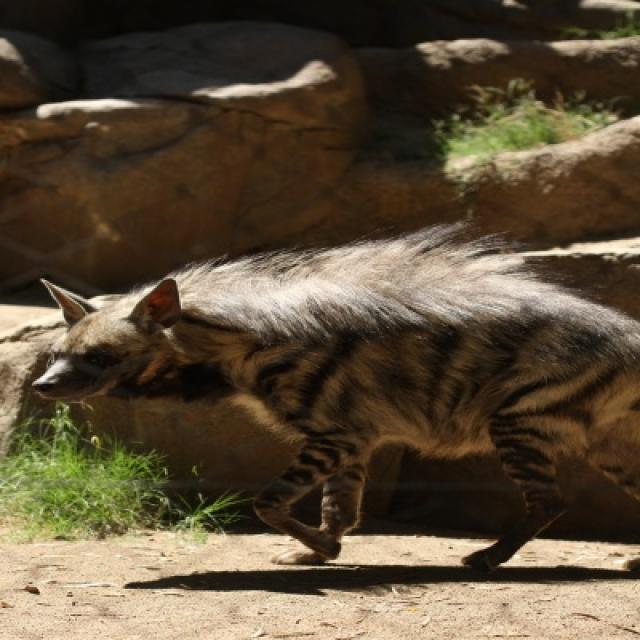hyena: (32, 226, 638, 570)
